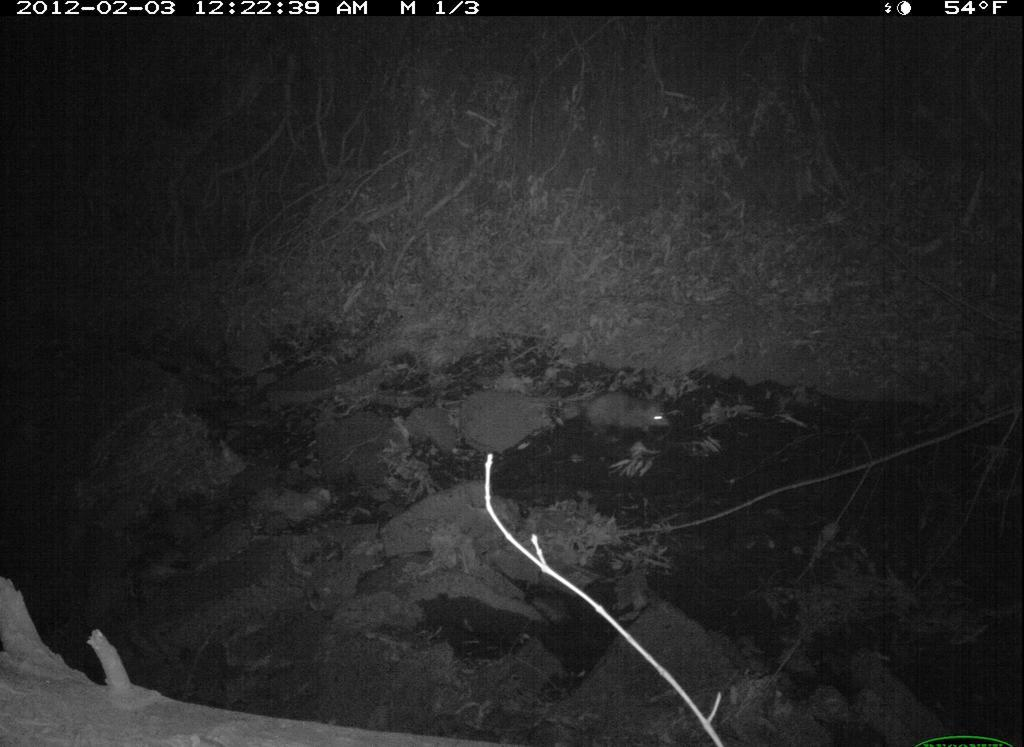opossum: (574, 388, 680, 450)
